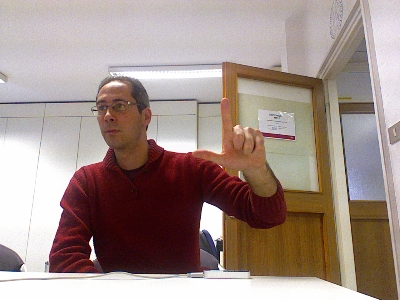枪: (190, 96, 267, 170)
